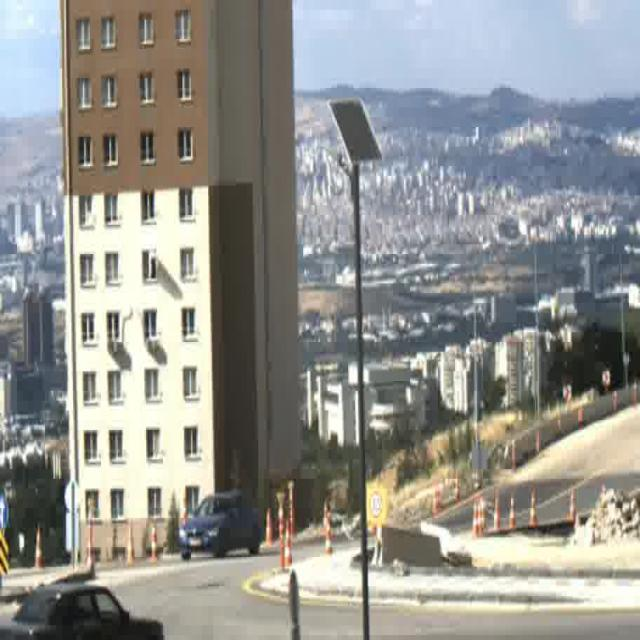Car: (0, 584, 162, 640), (180, 489, 259, 561)
